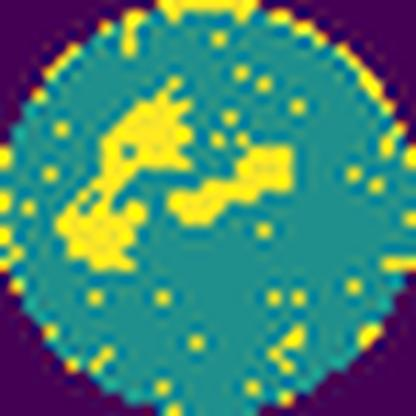Loc: (58, 72, 198, 269), (165, 146, 295, 228)
